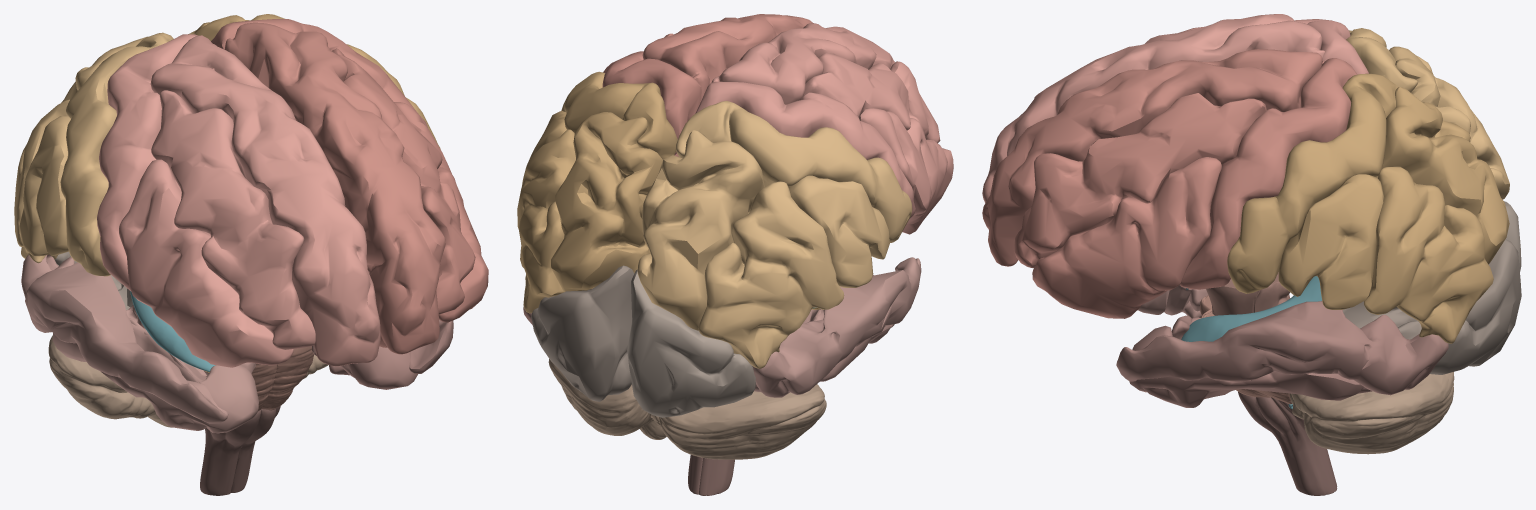
Rendered from brain.glb.
3 renders of one model, left to right at view 1: azimuth 30°, elevation 25°; view 2: azimuth 150°, elevation 25°; view 3: azimuth 270°, elevation 25°, orthographic. The views are drawn at different scales.
Visible parts, largest first — view 1: right-frontal, left-frontal, right-temporal, right-parietal, cerebellum, medulla, left-temporal, pons, right-lateral-ventricle, left-parietal; view 2: right-parietal, left-parietal, right-frontal, cerebellum, right-occipital, right-temporal, left-occipital, left-frontal, medulla; view 3: left-frontal, left-parietal, left-temporal, right-frontal, cerebellum, left-occipital, right-parietal, medulla, left-lateral-ventricle, midbrain, right-temporal, pons.
Boxes of the visible parts, x1,y1,x2,y2 form: right-frontal: [97, 34, 380, 367]; left-frontal: [211, 19, 488, 354]; right-temporal: [21, 254, 258, 433]; right-parietal: [14, 32, 173, 276]; cerebellum: [48, 335, 328, 427]; medulla: [200, 406, 280, 495]; left-temporal: [312, 319, 453, 389]; pons: [251, 346, 314, 411]; right-lateral-ventricle: [130, 291, 215, 371]; left-parietal: [188, 14, 440, 149]; right-parietal: [637, 101, 912, 368]; left-parietal: [517, 71, 677, 313]; right-frontal: [695, 23, 953, 234]; cerebellum: [548, 359, 826, 459]; right-occipital: [627, 269, 755, 417]; right-temporal: [752, 257, 921, 397]; left-occipital: [531, 265, 634, 401]; left-frontal: [602, 14, 812, 156]; medulla: [688, 455, 734, 495]; left-frontal: [982, 49, 1357, 318]; left-parietal: [1227, 73, 1509, 343]; left-temporal: [1116, 301, 1448, 407]; right-frontal: [982, 14, 1368, 202]; cerebellum: [1289, 372, 1454, 454]; left-occipital: [1343, 239, 1521, 374]; right-parietal: [1346, 28, 1509, 199]; medulla: [1238, 392, 1337, 495]; left-lateral-ventricle: [1181, 276, 1322, 341]; midbrain: [1206, 272, 1290, 315]; right-temporal: [1138, 285, 1208, 318]; pons: [1200, 295, 1291, 404].
Bounding box in the file's own units: 2.78 × 3.32 × 3.6.
